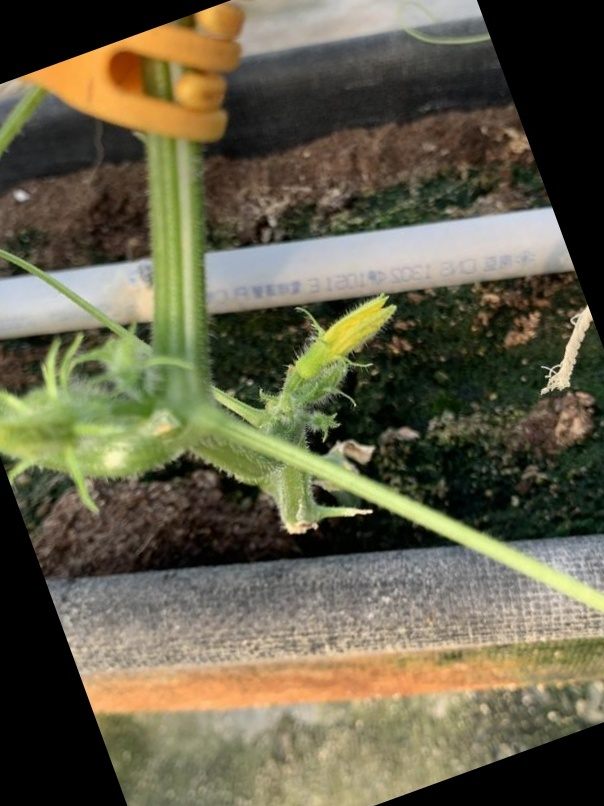bud: (286, 292, 400, 384)
